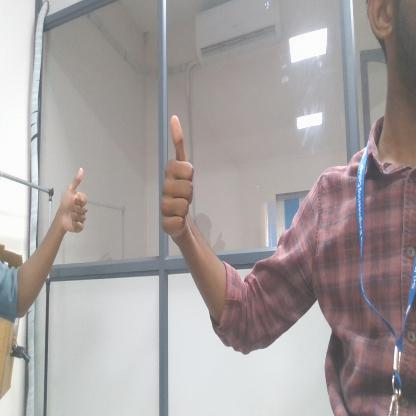Thumbs up: (158, 116, 198, 242), (55, 159, 99, 244)
